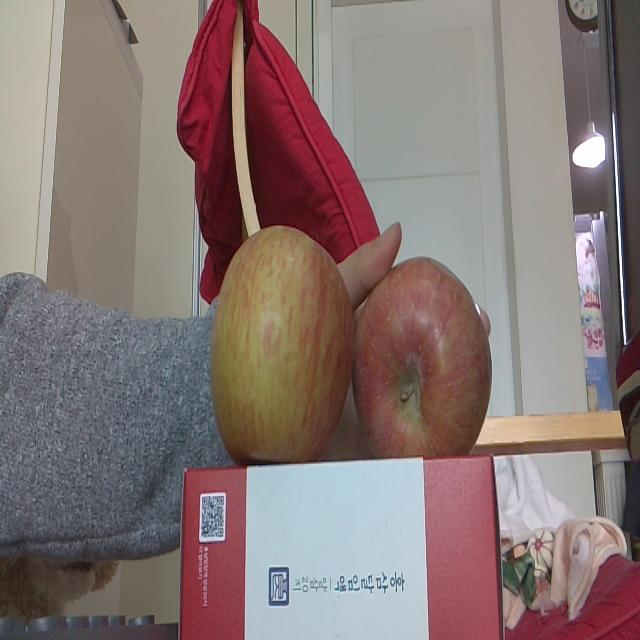apple: (209, 224, 353, 464), (353, 255, 491, 461)
